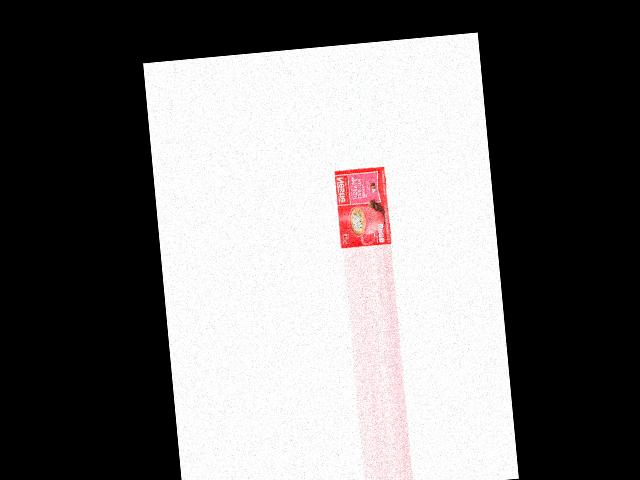chocolate: (336, 168, 394, 249)
